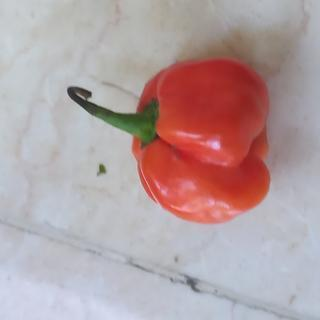Grade-B: (121, 47, 277, 230)
